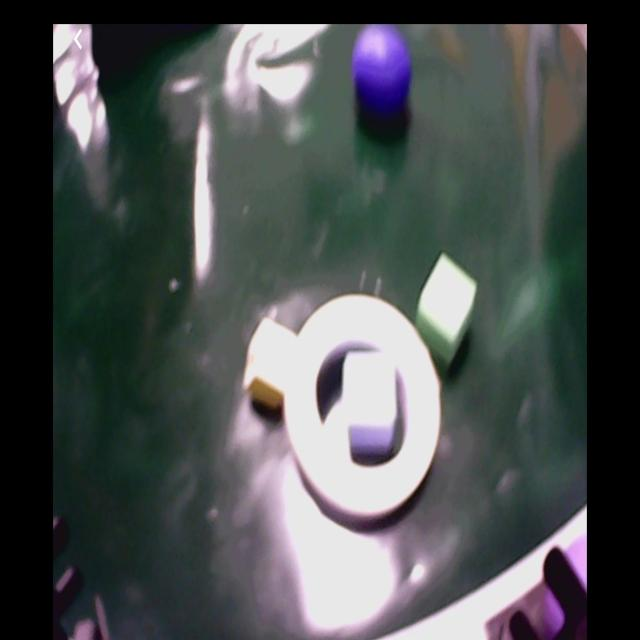ball: (540, 529, 589, 635), (355, 26, 414, 107)
